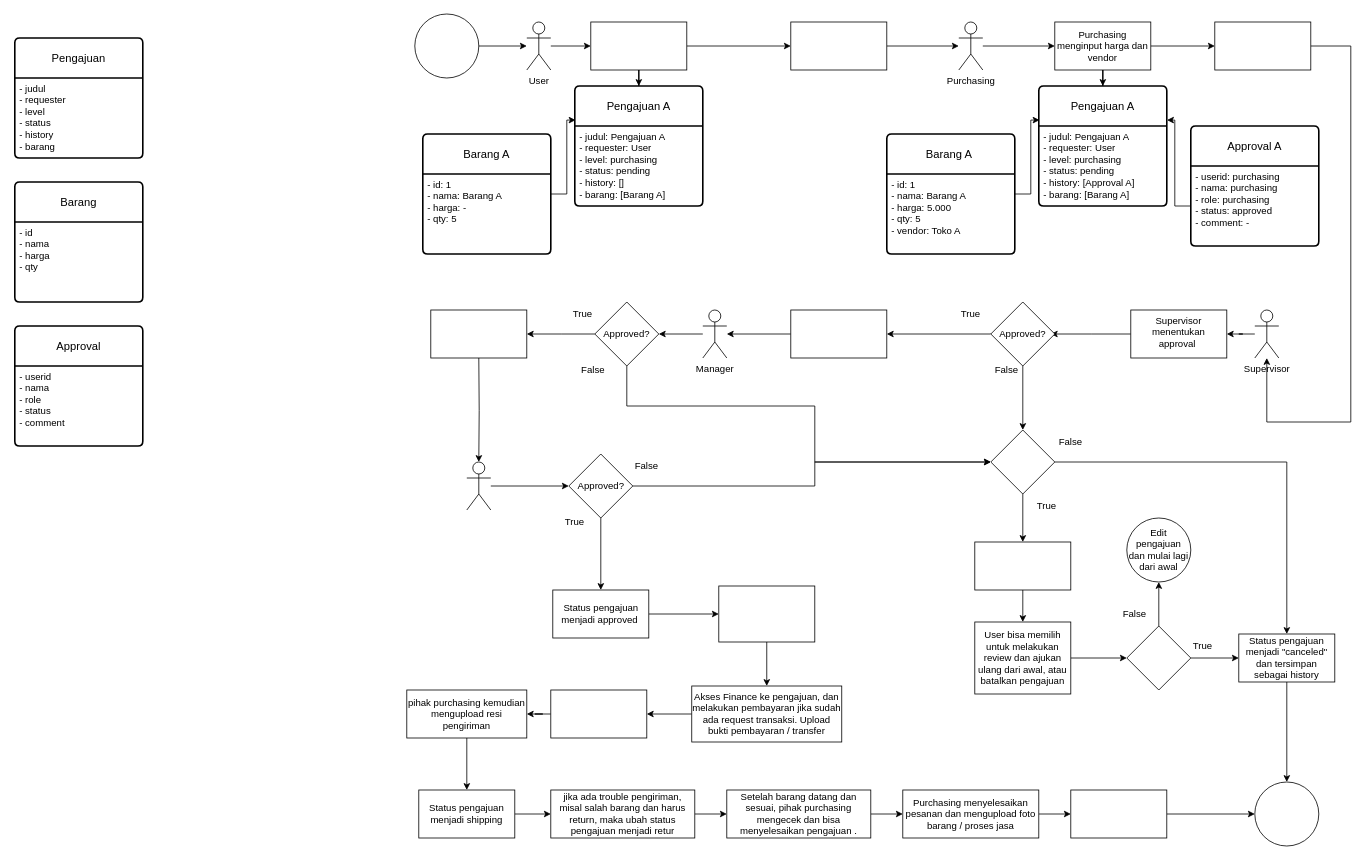
Some shapes in this 1371 by 860 pixel diagram are drawn without their labels. The centre of each missing label's shape, as x and y in pixels:
batalkan?: (x=1158, y=657)
direktur: (x=478, y=485)
END: (x=1286, y=813)
Kembalikan request ke User dengan status review: (x=1022, y=565)
Membuat pengajuan baru: (x=638, y=45)
Pengajuan dapat dilihat oleh direktur: (x=478, y=333)
Pengajuan dapat dilihat oleh manager: (x=838, y=333)
Pengajuan dapat dilihat oleh purchasing: (x=838, y=45)
Pengajuan dapat dilihat oleh supervisor ke bawah: (x=1262, y=45)
Pihak purchasing melakukan order atau request transaksi: (x=766, y=613)
Review?: (x=1022, y=461)
START: (x=446, y=45)
Status pengajuan menjad buying: (x=598, y=713)
Status pengajuan menjadi "success" dan tersimpan sebagai history: (x=1118, y=813)
